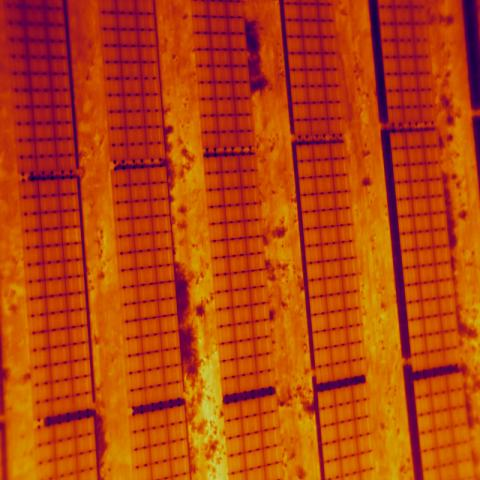fault: (62, 225, 82, 244)
